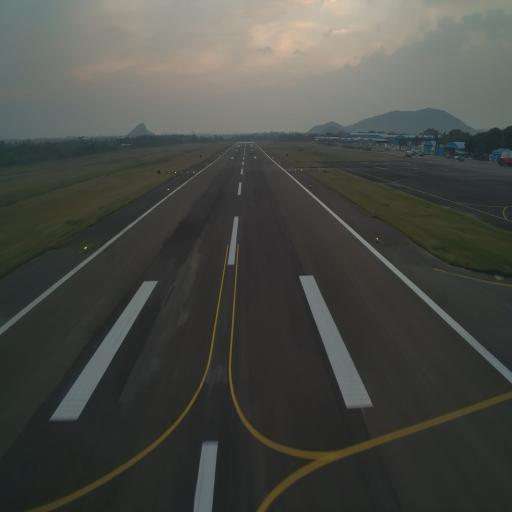on: (374, 234, 380, 244), (83, 244, 89, 253), (166, 186, 171, 193), (309, 183, 312, 190)
